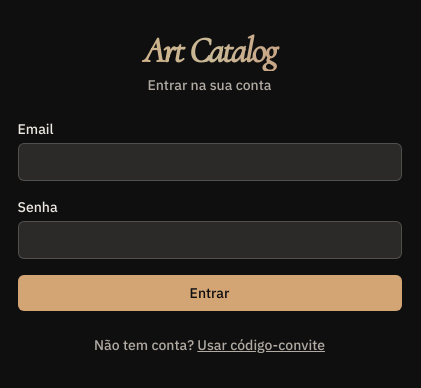
Test: LoginPage › shows error on bad credentials
This screenshot has width=421, height=388.
Type "wrong@x.com" into the field labelled "Email" at (210, 162), box [18,143,402,181]
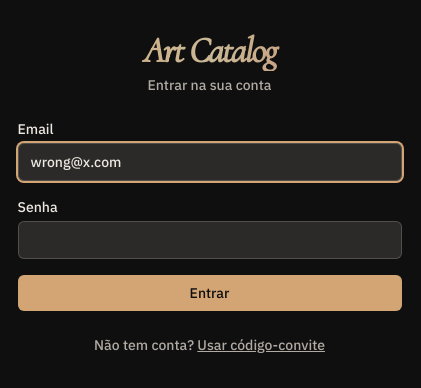
Type "wrong" into the password field labelled "Senha" at (210, 240), box [18,221,402,259]
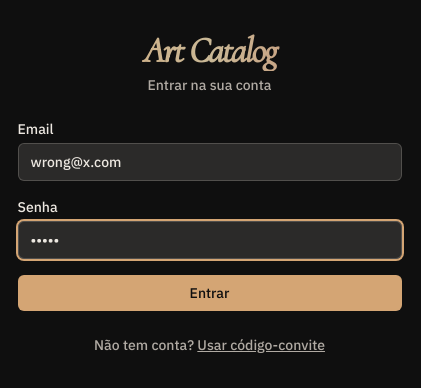
Click the button "Entrar" at (210, 293), box [18,275,402,311]
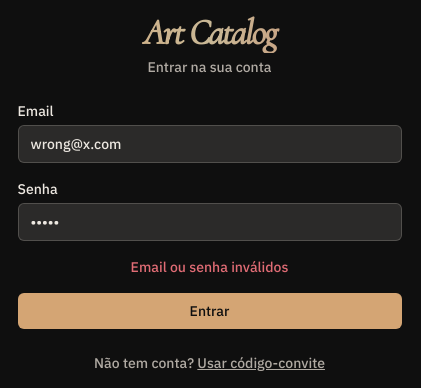
Check: the text "Email ou senha inválidos" is shown, box [131,258,288,276]
